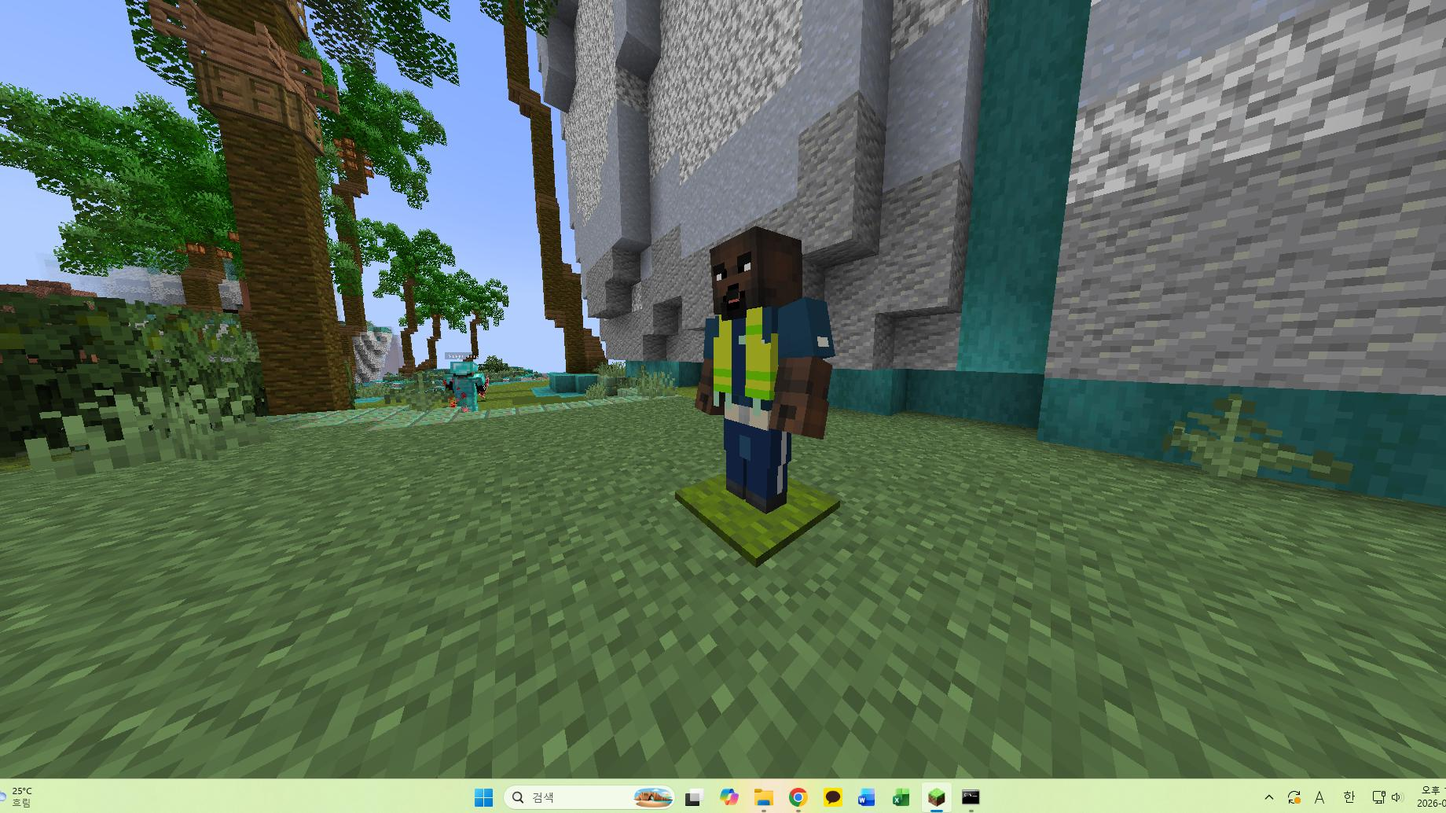Guardian: (696, 227, 834, 513)
